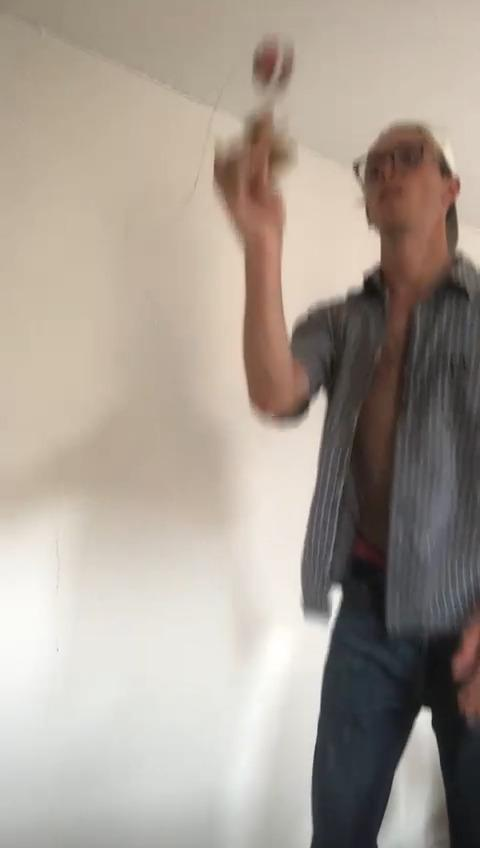kendama_ball: (253, 37, 294, 87)
